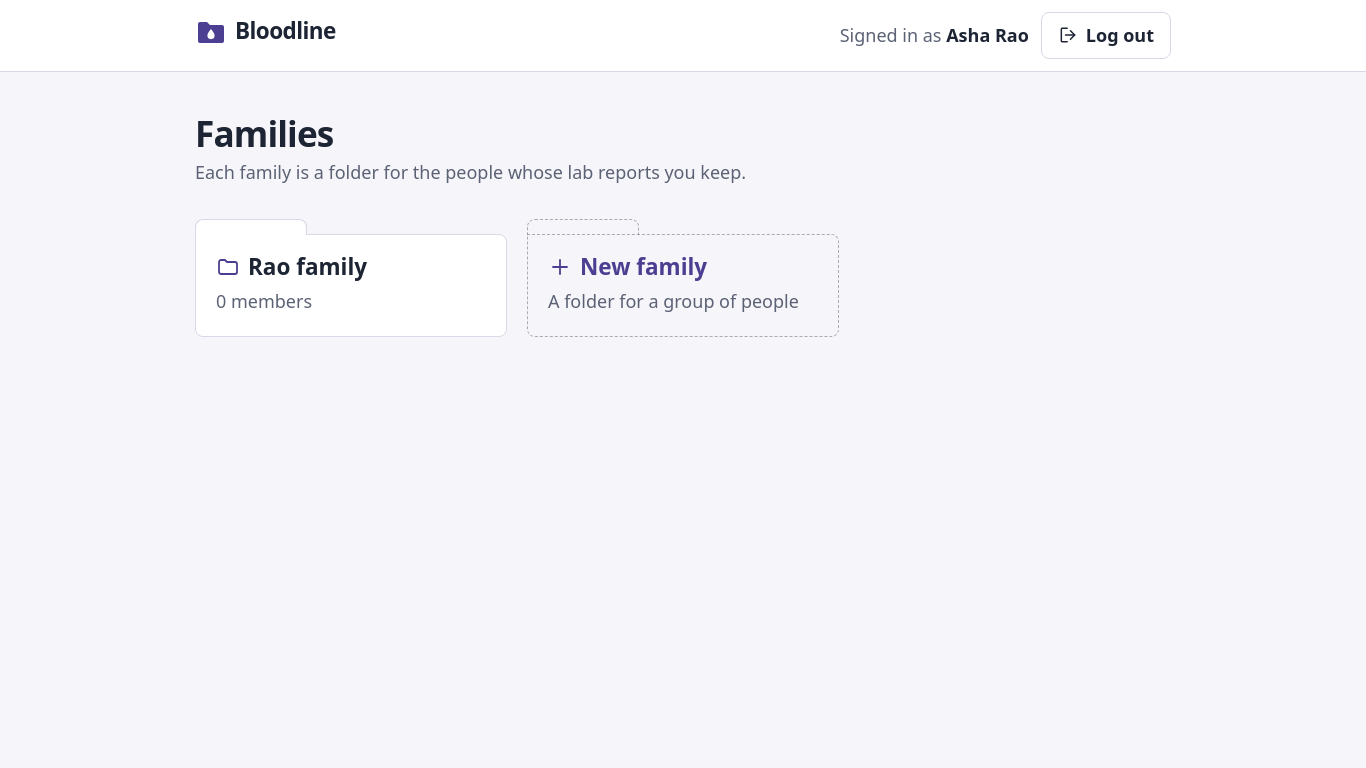
Scenario: signing out › forgets every cached family and member
Expected: the link "Rao family 0 members" is shown, left=195, top=219, right=507, bottom=337
Click the button "Log out" at [1106, 35], box left=1041, top=12, right=1171, bottom=59
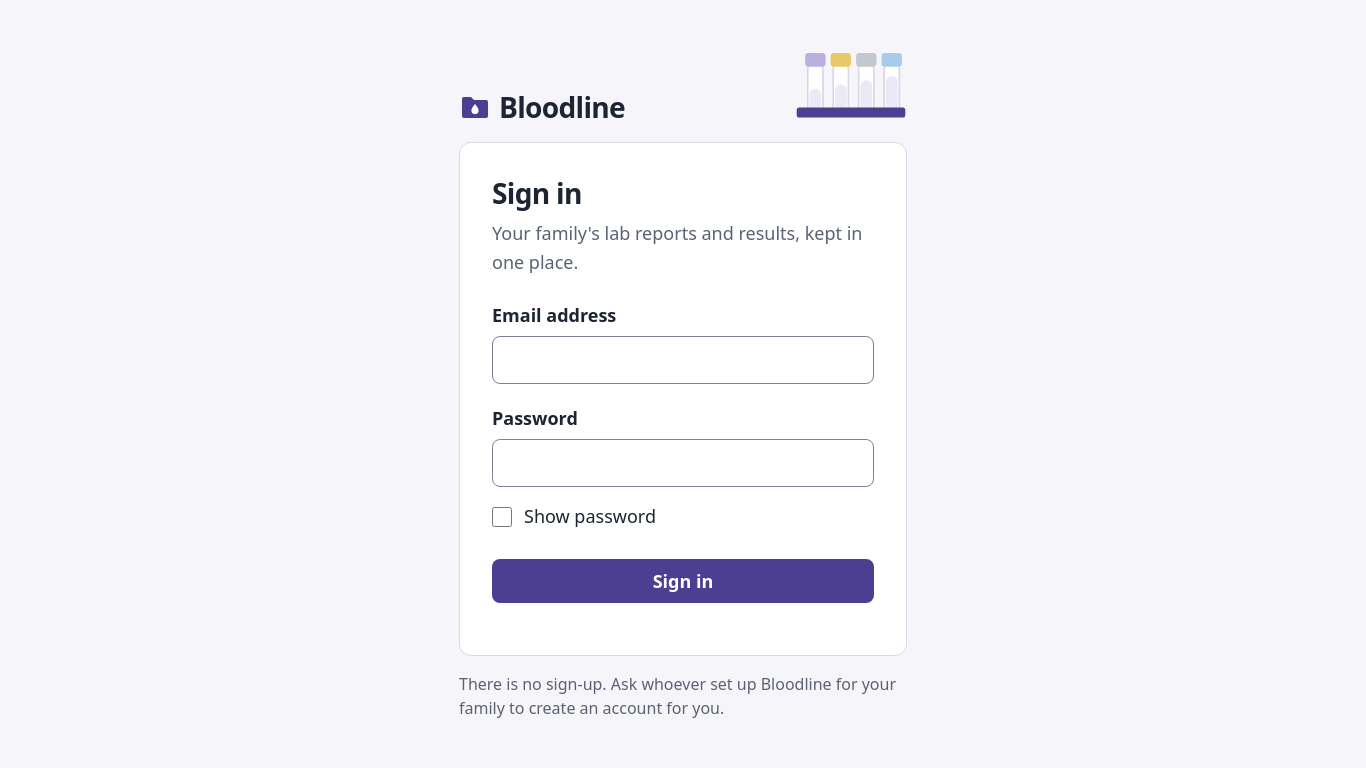
Result: the heading "Sign in" is shown at left=492, top=174, right=582, bottom=212
Result: the link "Rao family" is gone
